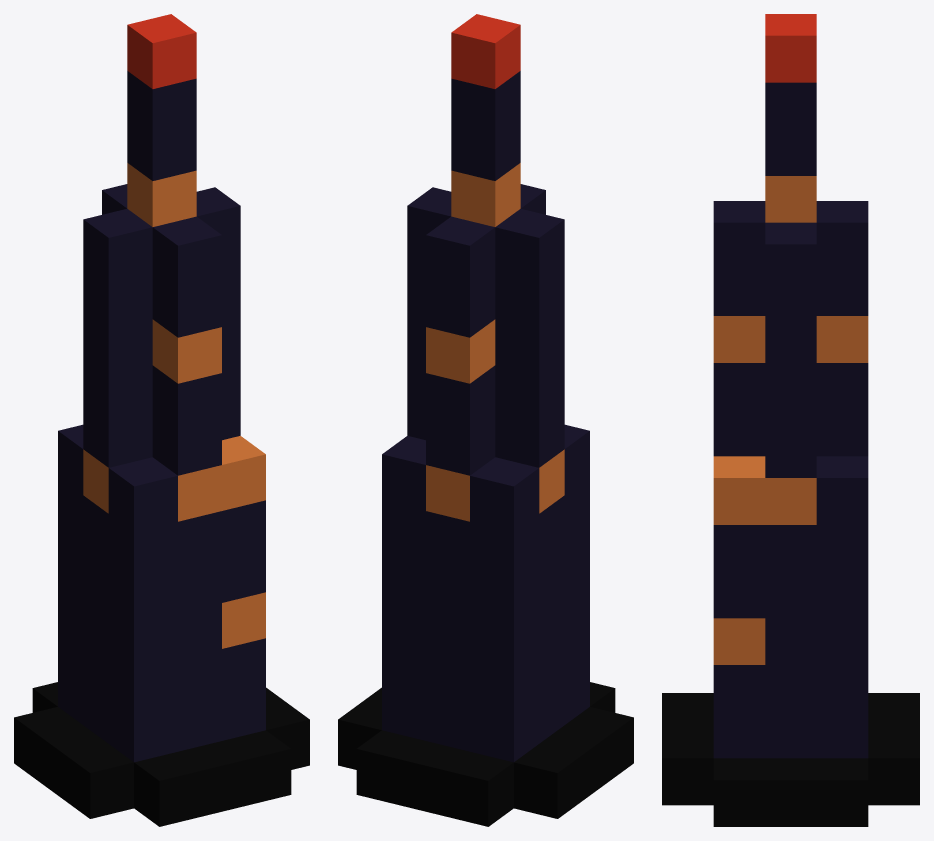
Rendered from lava-obsidian-spire.glb.
3 renders of one model, left to right at view 1: azimuth 30°, elevation 25°; view 2: azimuth 150°, elevation 25°; view 3: azimuth 270°, elevation 25°, orthographic.
Visible parts, largest first — view 1: lava_obsidian_spire; view 2: lava_obsidian_spire; view 3: lava_obsidian_spire.
Boxes of the visible parts, box(x1,y1,x2,y2) form: lava_obsidian_spire: box(14, 14, 309, 826); lava_obsidian_spire: box(338, 14, 633, 826); lava_obsidian_spire: box(662, 14, 919, 826).
Bounding box in the file's own units: 0.5 × 1.6 × 0.5.
